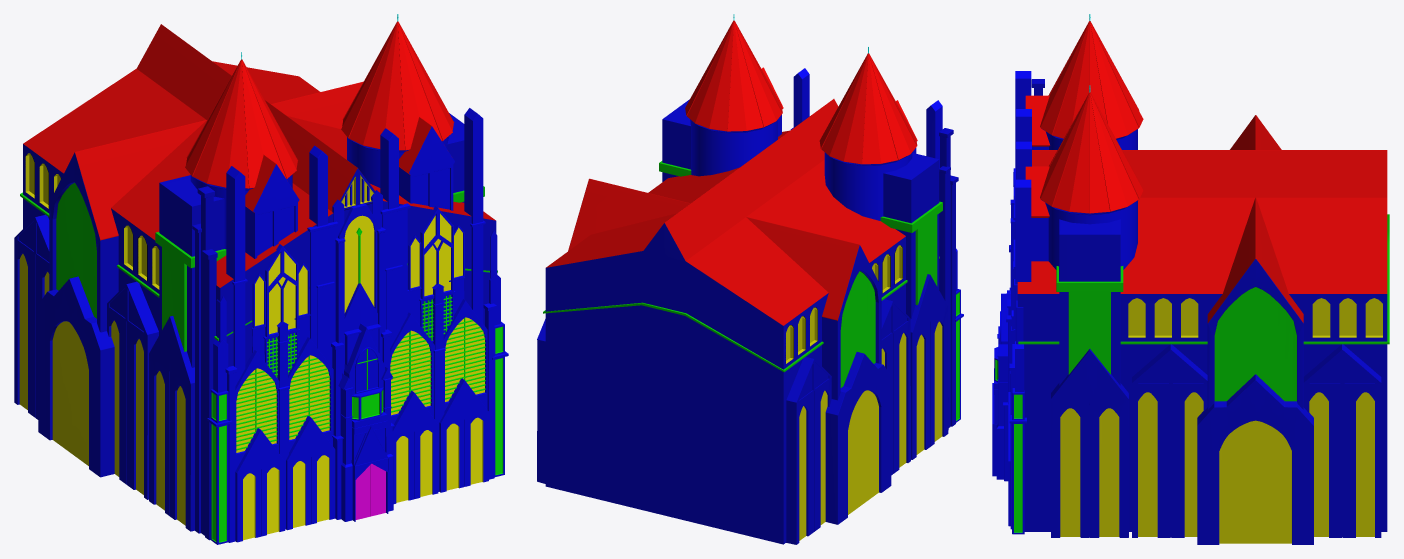
The model's file is CathedralModel.fbx.
3 renders of one model, left to right at view 1: azimuth 30°, elevation 25°; view 2: azimuth 150°, elevation 25°; view 3: azimuth 270°, elevation 25°, orthographic. The views are drawn at different scales.
Visible parts, largest first — view 1: Cathedral_Combined; view 2: Cathedral_Combined; view 3: Cathedral_Combined.
Part boxes in pixels (box(x1,y1,x2,y2)): Cathedral_Combined: box(14, 14, 508, 544); Cathedral_Combined: box(537, 14, 963, 544); Cathedral_Combined: box(992, 14, 1389, 544).
Bounding box in the file's own units: 54.79 × 71.21 × 61.1.
